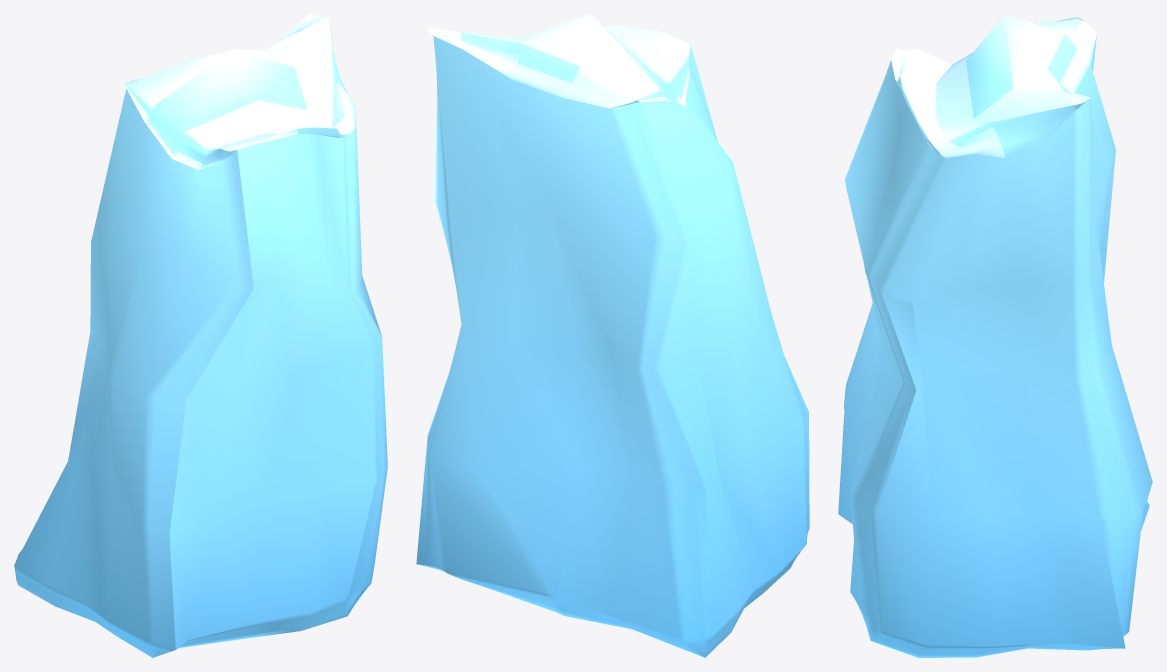
Rendered from prop.glacier_serac.glb.
The picture shows the model from 3 angles, left to right: view 1: azimuth 30°, elevation 25°; view 2: azimuth 150°, elevation 25°; view 3: azimuth 270°, elevation 25°; orthographic projection. The views are drawn at different scales.
Visible parts, largest first — view 1: glacier_serac; view 2: glacier_serac; view 3: glacier_serac.
Boxes of the visible parts, x1,y1,x2,y2 form: glacier_serac: (14, 14, 387, 657); glacier_serac: (416, 14, 809, 657); glacier_serac: (838, 14, 1152, 657).
Bounding box in the file's own units: 5.5 × 9.6 × 4.58.
